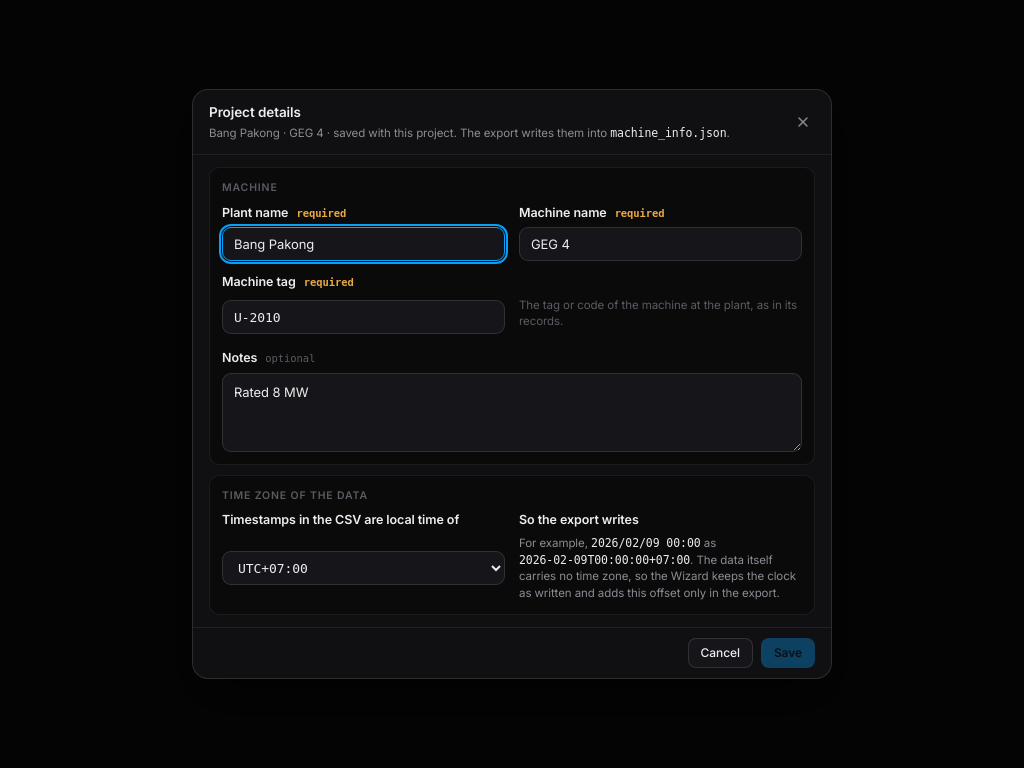
Test case: ProjectDetailsModal › footer says what the save does: "Saving renames the project to …" only when the name changes
The image size is (1024, 768).
Replace the text in the text box with placeholder "What this project is about" with "New notes". click: point(512, 412)
box: [222,373,802,452]
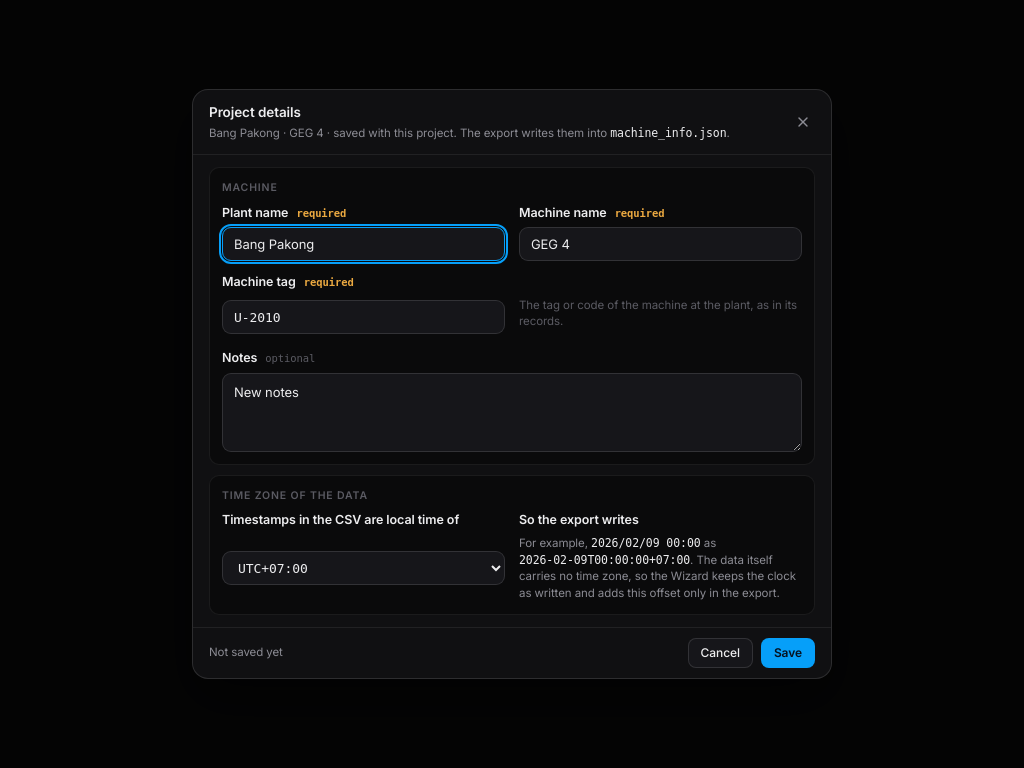
Result: the message reads "Not saved yet" at [209,645,283,659]
Replace the text in the field with placeholder "e.g. Gas Engine Generator 4" with "GEG 5". click: point(660, 244)
box: [519,227,802,261]
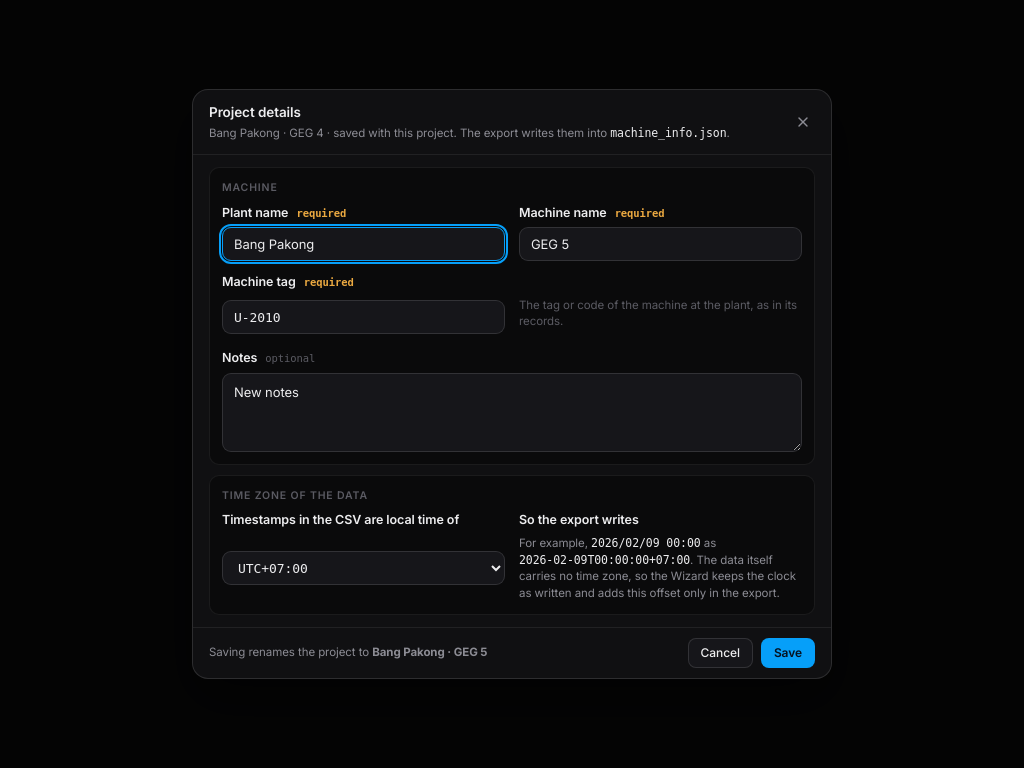
Result: the message reads "Saving renames the project to Bang Pakong · GEG 5" at [209,644,487,661]
